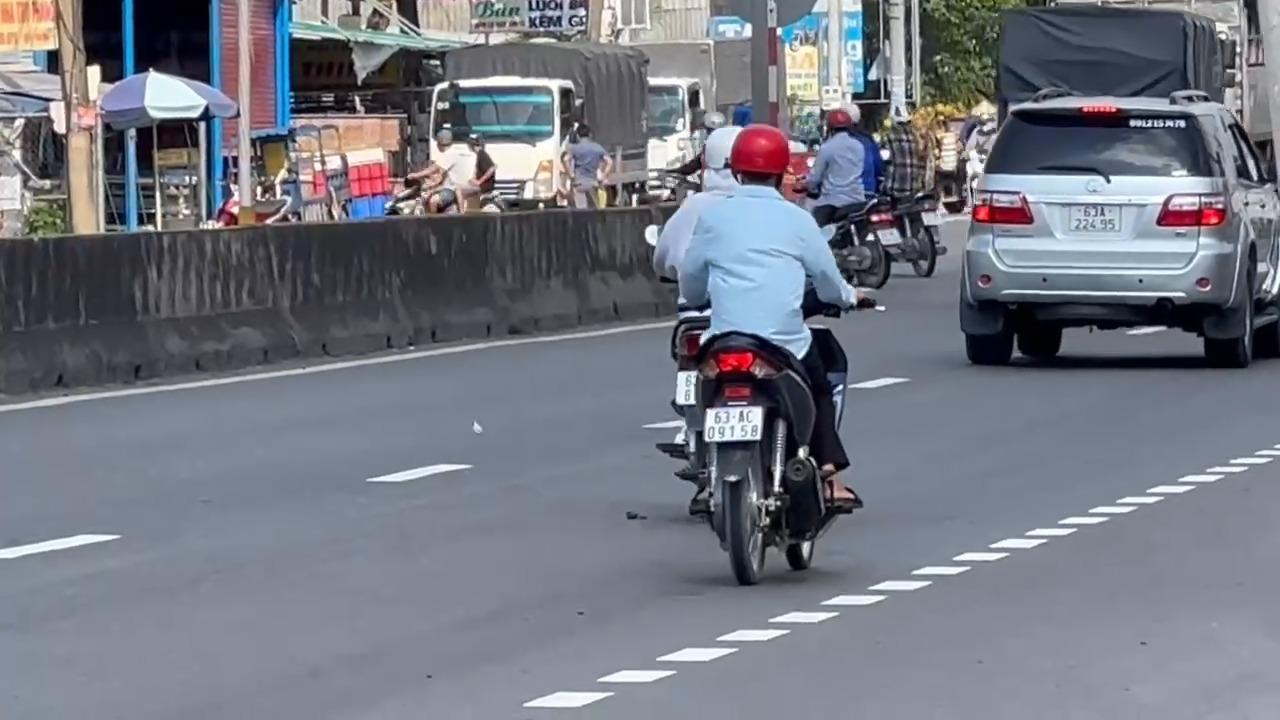bien_so: (702, 404, 763, 442), (1062, 203, 1122, 234)
